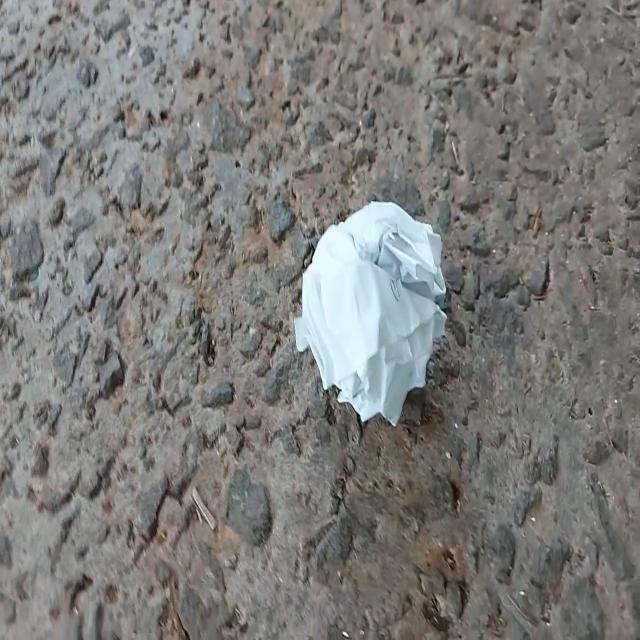Paper: (271, 179, 470, 442)
